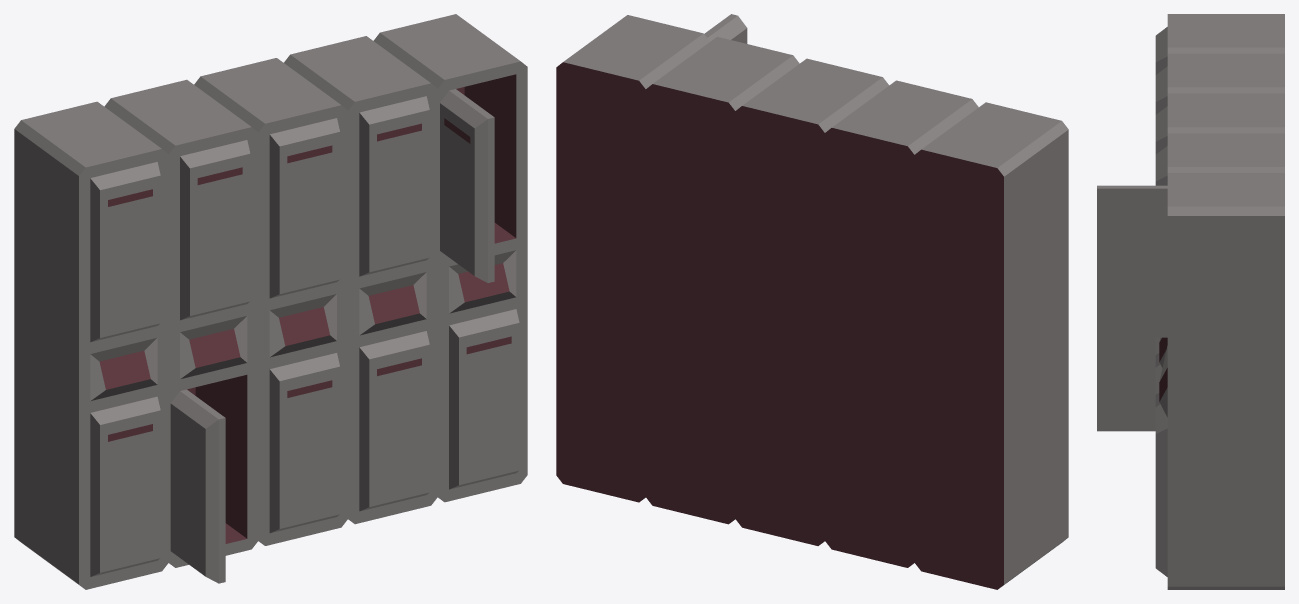
Rendered from scifi-lockers.fbx.
3 views of the same model, side by side, from view 1: azimuth 30°, elevation 25°; view 2: azimuth 150°, elevation 25°; view 3: azimuth 270°, elevation 25° (orthographic). The views are drawn at different scales.
Visible parts, largest first — view 1: scifi-lockers; view 2: scifi-lockers; view 3: scifi-lockers.
Part boxes in pixels (x1,y1,x2,y2): scifi-lockers: (14, 14, 527, 589); scifi-lockers: (556, 14, 1068, 589); scifi-lockers: (1097, 14, 1284, 589).
Size of the model in its own units: 2 by 1.8 by 0.8.
